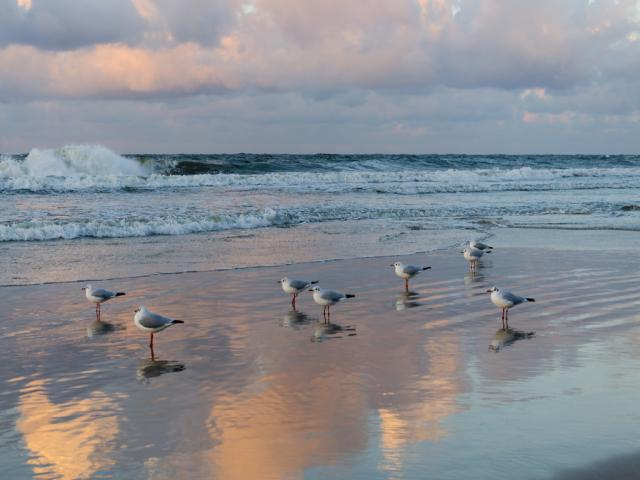Bird: (134, 302, 184, 344), (308, 284, 356, 324), (486, 284, 534, 322), (389, 260, 431, 293), (276, 277, 315, 310), (82, 285, 126, 312), (460, 246, 486, 269), (466, 236, 490, 249)
